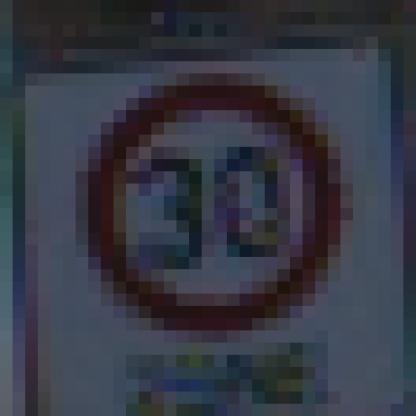Speed Limit 30: (93, 84, 338, 328)
